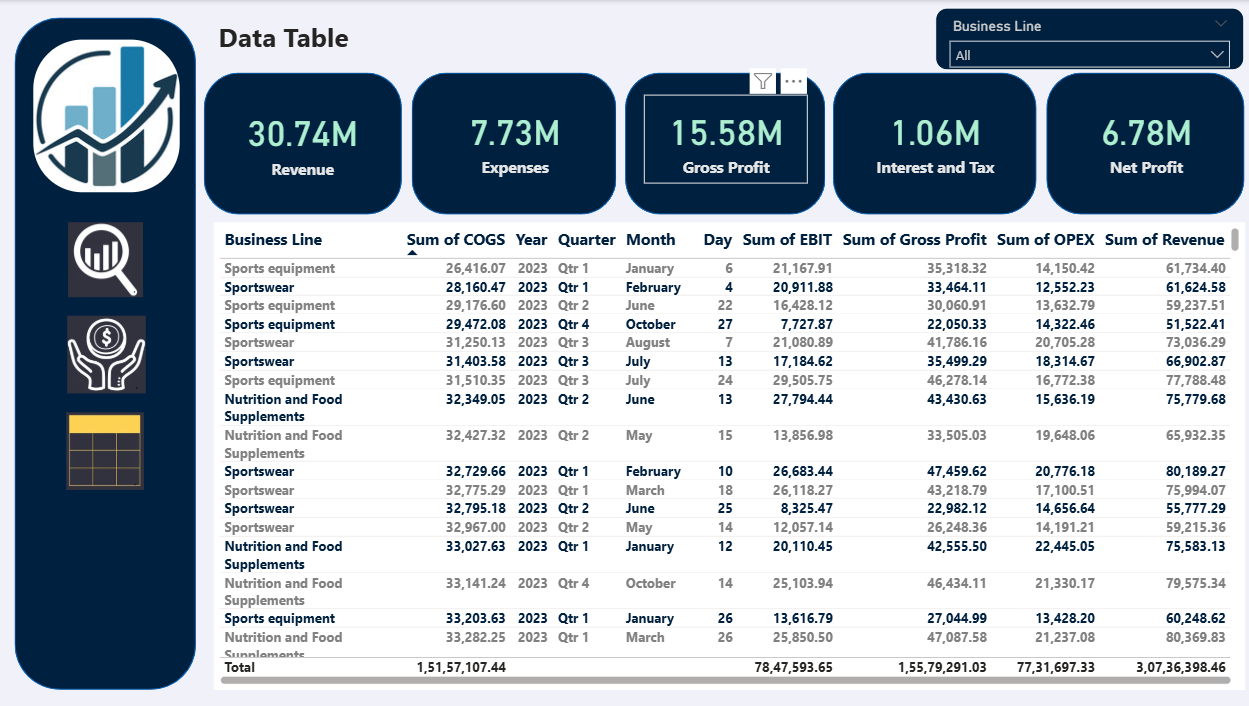

What the dashboard file says about the page in this screenshot:
{"tool":"powerbi","page":{"name":"Data Table","canvas":[1280,720],"ordinal":2},"visuals":[{"type":"textbox","box":[220.7,13.4,446.9,52.6],"z":0},{"type":"shape","box":[210.6,73.9,201.6,144.5],"z":1000},{"type":"card","fields":{"Values":["Sum(financial_kpis_with_business_line_300_rows.Revenue)"]},"box":[220.7,97.5,180.3,90.7],"z":2000},{"type":"shape","box":[422.3,73.9,208.3,144.5],"z":3000},{"type":"card","fields":{"Values":["Sum(financial_kpis_with_business_line_300_rows.OPEX)"]},"box":[440.2,96.3,173.6,90.7],"z":4000},{"type":"shape","box":[639.6,73.9,203.9,144.5],"z":5000},{"type":"card","fields":{"Values":["Sum(financial_kpis_with_business_line_300_rows.Gross Profit)"]},"box":[658.6,96.3,166.9,90.7],"z":6000},{"type":"shape","box":[851.3,73.9,207.2,144.5],"z":7000},{"type":"shape","box":[1068.6,73.9,201.6,144.5],"z":8000},{"type":"card","fields":{"Values":["Sum(financial_kpis_with_business_line_300_rows.Interest and Tax)"]},"box":[871.5,96.3,166.9,90.7],"z":9000},{"type":"card","fields":{"Values":["Sum(financial_kpis_with_business_line_300_rows.Net Profit)"]},"box":[1086.5,96.3,166.9,90.7],"z":10000},{"type":"shape","box":[17.9,17.9,184.8,684.4],"z":11000},{"type":"image","box":[37,40.3,149,155.7],"z":12000},{"type":"image","box":[70.6,226.3,79.5,76.2],"z":13000},{"type":"image","box":[70.6,418.9,79.5,80.6],"z":16000},{"type":"image","box":[70.6,321.5,81.8,79.5],"z":16001},{"type":"tableEx","fields":{"Values":["financial-data.Business Line","Sum(financial-data.COGS)","financial-data.Date.Variation.Date Hierarchy.Year","financial-data.Date.Variation.Date Hierarchy.Quarter","financial-data.Date.Variation.Date Hierarchy.Month","financial-data.Date.Variation.Date Hierarchy.Day","Sum(financial-data.EBIT)","Sum(financial-data.Gross Profit)","Sum(financial-data.OPEX)","Sum(financial-data.Revenue)"]},"box":[220.7,226.3,1049.6,476.1],"z":16002},{"type":"slicer","fields":{"Values":["financial-data.Business Line"]},"box":[955.5,7.8,314.8,63.8],"z":16003}]}

Visuals, with their boxes in screenshot pixels (x1, y1, x2, y2), scaled from the page's 1280x720 canvas onto the 1249x706 screenshot:
textbox: rect(215, 13, 651, 65)
shape: rect(205, 72, 402, 214)
card - Sum(financial_kpis_with_business_line_300_rows.Revenue): rect(215, 96, 391, 185)
shape: rect(412, 72, 615, 214)
card - Sum(financial_kpis_with_business_line_300_rows.OPEX): rect(430, 94, 599, 183)
shape: rect(624, 72, 823, 214)
card - Sum(financial_kpis_with_business_line_300_rows.Gross Profit): rect(643, 94, 806, 183)
shape: rect(831, 72, 1033, 214)
shape: rect(1043, 72, 1239, 214)
card - Sum(financial_kpis_with_business_line_300_rows.Interest and Tax): rect(850, 94, 1013, 183)
card - Sum(financial_kpis_with_business_line_300_rows.Net Profit): rect(1060, 94, 1223, 183)
shape: rect(17, 18, 198, 689)
image: rect(36, 40, 181, 192)
image: rect(69, 222, 146, 297)
image: rect(69, 411, 146, 490)
image: rect(69, 315, 149, 393)
tableEx - financial-data.Business Line x Sum(financial-data.COGS): rect(215, 222, 1240, 689)
slicer - financial-data.Business Line: rect(932, 8, 1240, 70)
